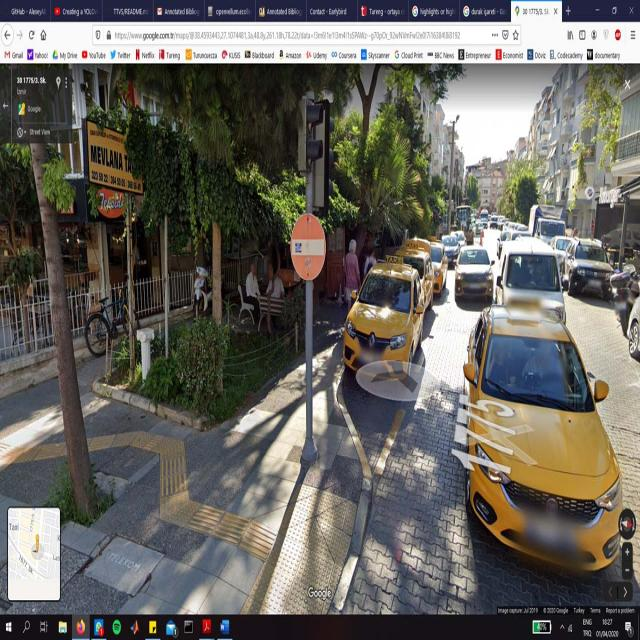girisyok: (290, 216, 327, 278)
